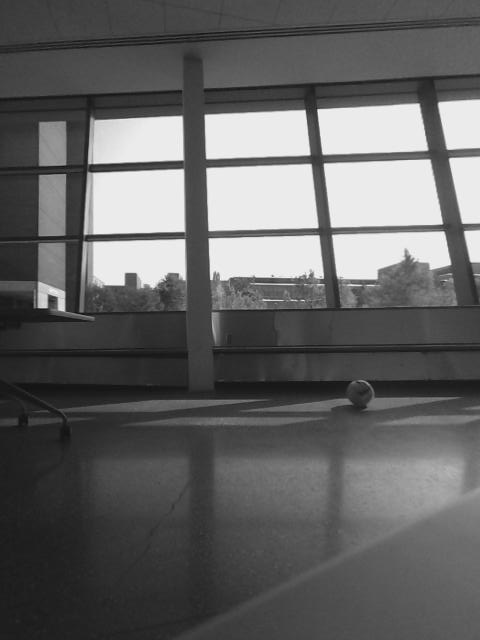ball: (345, 377, 376, 409)
